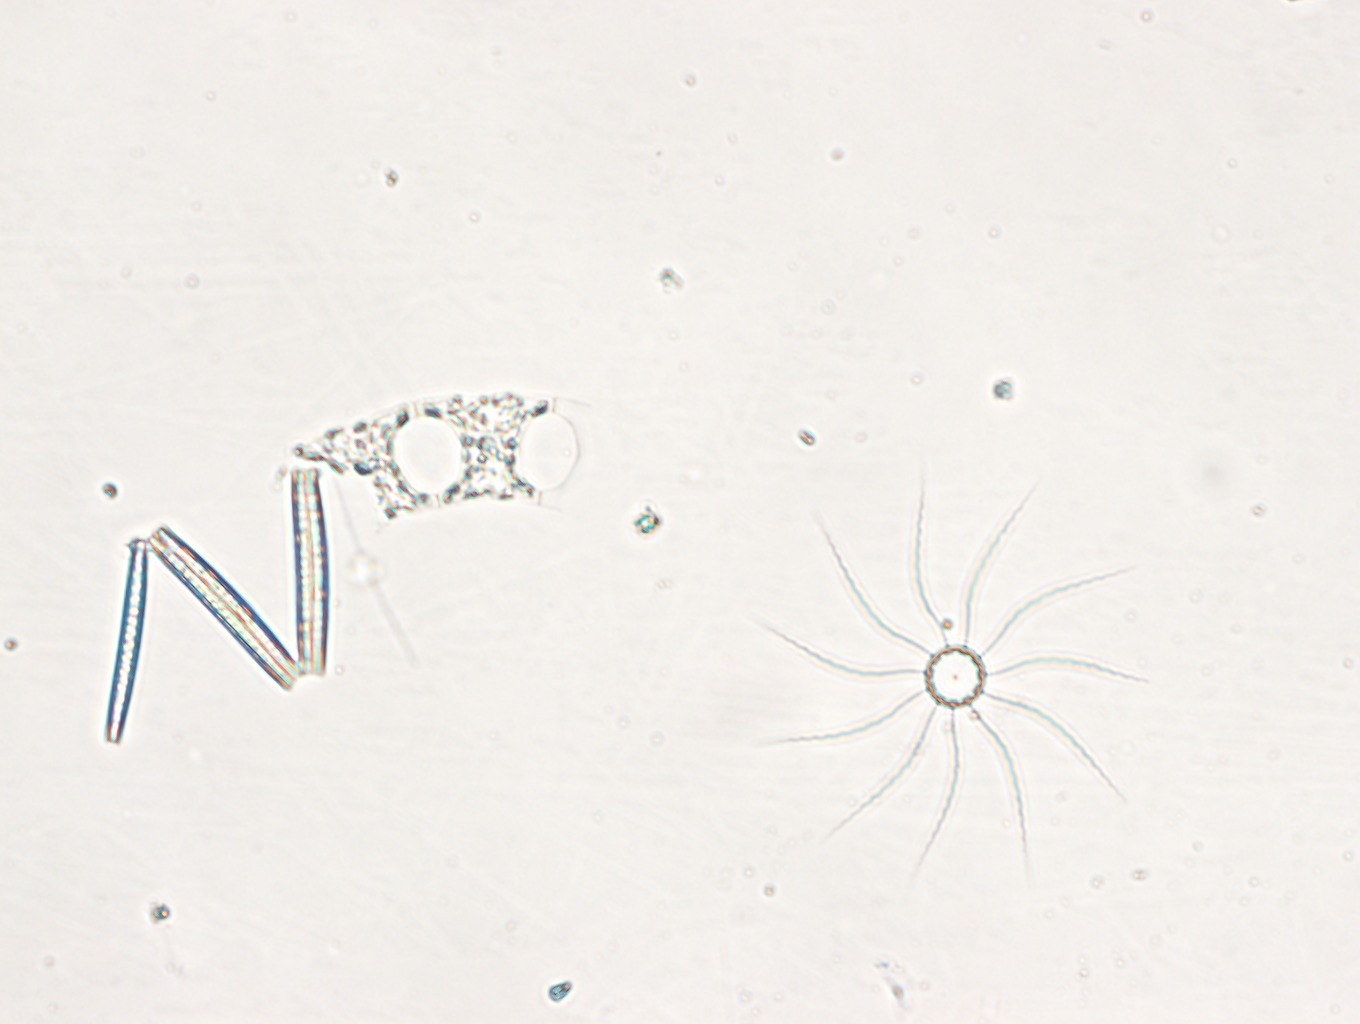bacteriastrum: (751, 468, 1146, 874)
eucampia: (271, 386, 610, 538)
thalassionema nitzschioides: (102, 464, 333, 746)
